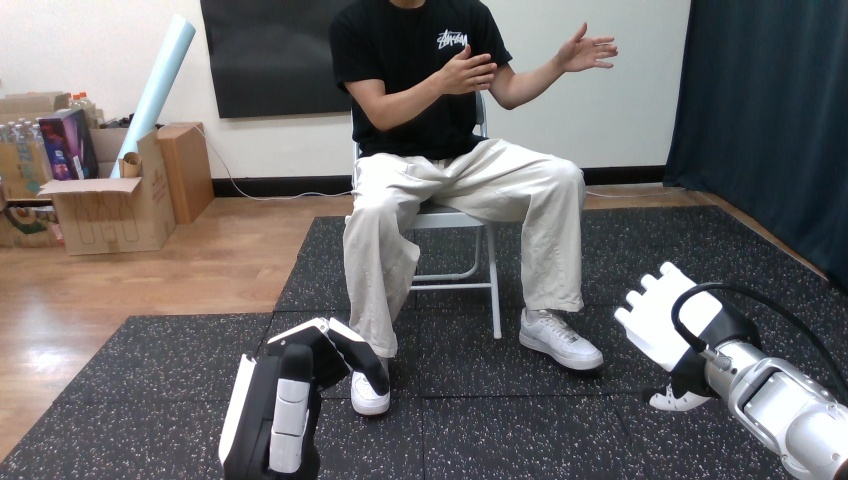left robot hand: (219, 318, 389, 479), (555, 23, 617, 71)
